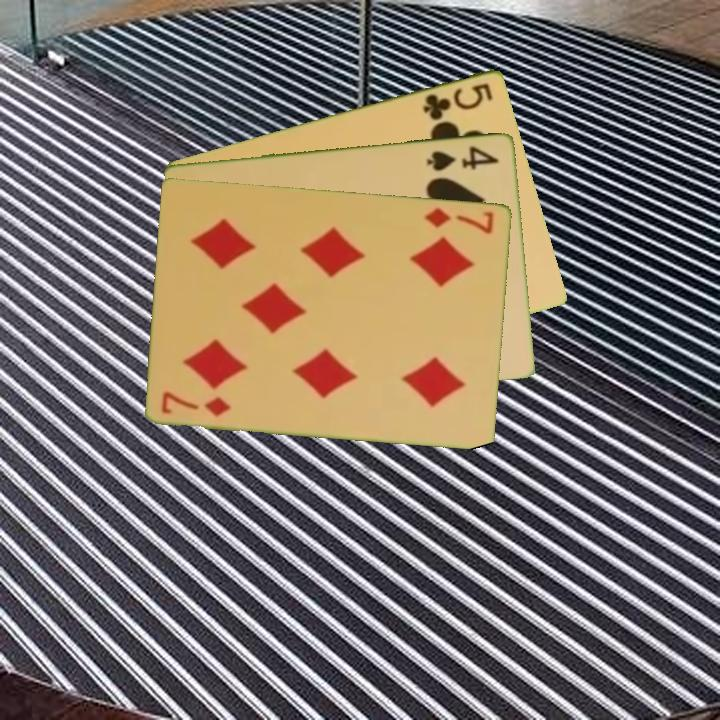4s: (423, 142, 502, 173)
5c: (419, 79, 496, 123)
7d: (158, 387, 234, 419), (422, 204, 497, 236)
